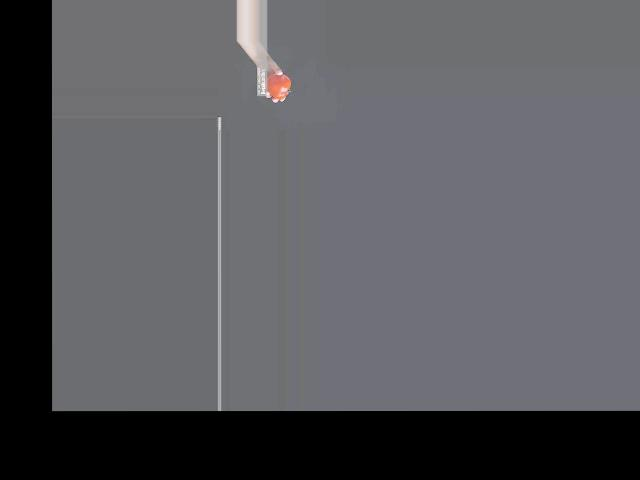tomato: (266, 74, 291, 99)
